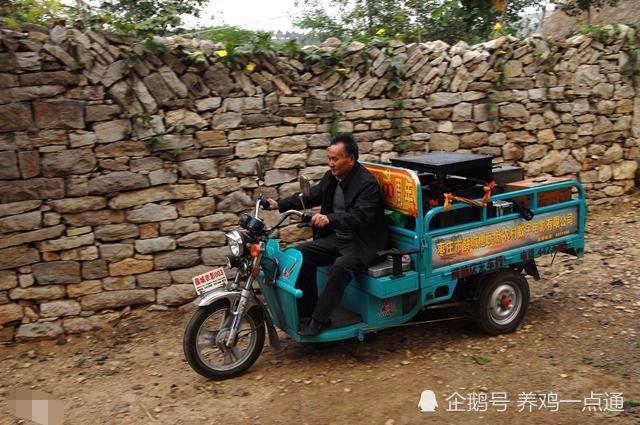only_driver: (148, 128, 608, 391)
